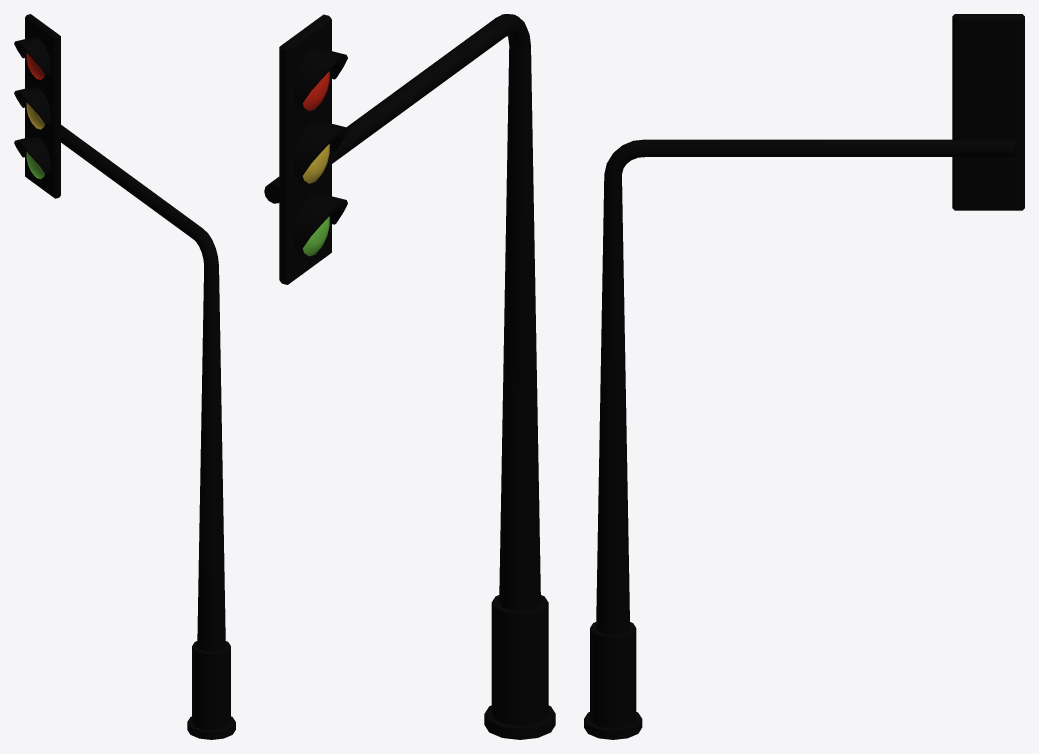
The model's file is traffic_2.glb.
The picture shows the model from 3 angles, left to right: view 1: azimuth 30°, elevation 25°; view 2: azimuth 150°, elevation 25°; view 3: azimuth 270°, elevation 25°; orthographic projection. The views are drawn at different scales.
Parts seen in each view (by area): view 1: traffic_2; view 2: traffic_2; view 3: traffic_2.
Boxes of the visible parts, x1,y1,x2,y2 form: traffic_2: (14,14,235,739); traffic_2: (264,14,555,739); traffic_2: (584,14,1024,739).
Bounding box in the file's own units: 0.3376 × 3.48 × 1.97.
Materials: 1 (1 with a texture image).
